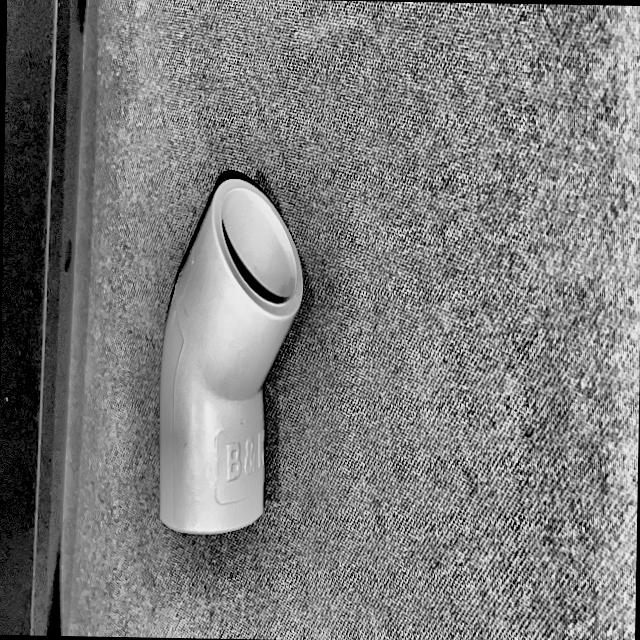ELBOW45: (159, 171, 305, 535)
